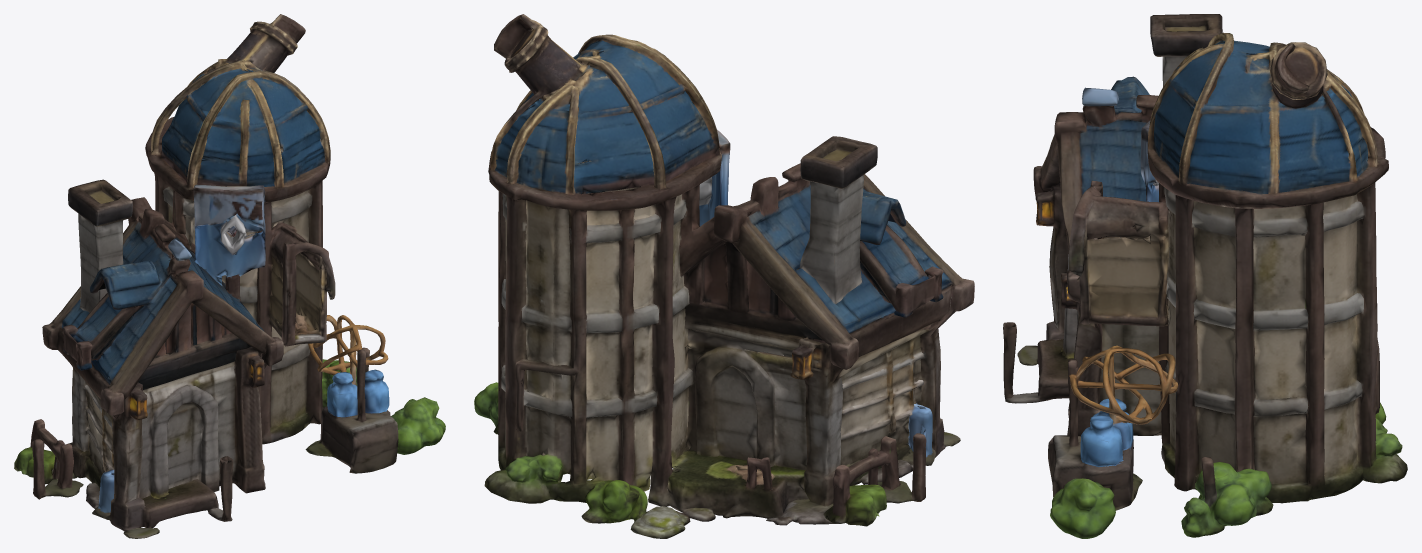
The model's file is research_tower.glb.
3 views of the same model, side by side, from view 1: azimuth 30°, elevation 25°; view 2: azimuth 150°, elevation 25°; view 3: azimuth 270°, elevation 25° (orthographic). The views are drawn at different scales.
Parts seen in each view (by area): view 1: research_tower_s7_fit; view 2: research_tower_s7_fit; view 3: research_tower_s7_fit.
Boxes of the visible parts, x1,y1,x2,y2 form: research_tower_s7_fit: (14,14,445,538); research_tower_s7_fit: (474,14,974,538); research_tower_s7_fit: (1003,14,1407,538).
Bounding box in the file's own units: 4.34 × 4.32 × 3.41.
1 material, 1 textured.
